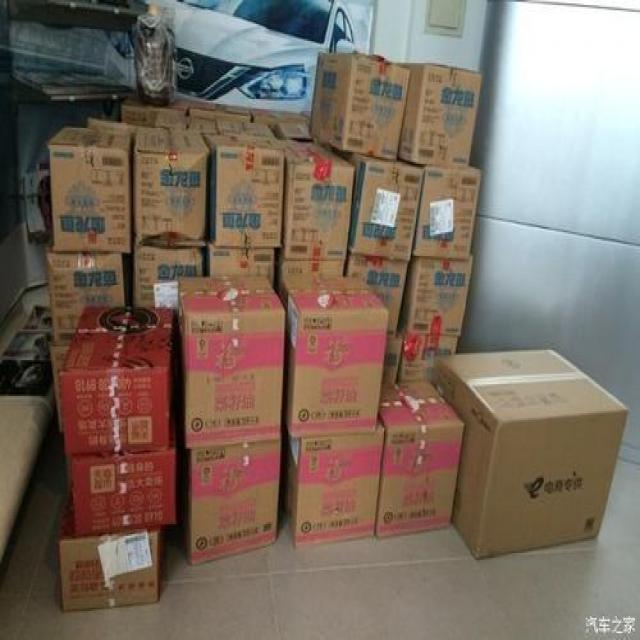box: (432, 344, 627, 564), (56, 298, 178, 453), (286, 273, 392, 442), (178, 274, 282, 442), (373, 372, 468, 540), (178, 438, 290, 570), (282, 418, 388, 550), (44, 129, 138, 255), (62, 444, 184, 538), (308, 51, 408, 164), (127, 120, 211, 246), (395, 53, 487, 168), (58, 525, 160, 616), (210, 136, 290, 248), (346, 148, 423, 260), (282, 140, 352, 258), (410, 162, 486, 266), (46, 251, 126, 336), (405, 258, 476, 343), (132, 242, 204, 312)
